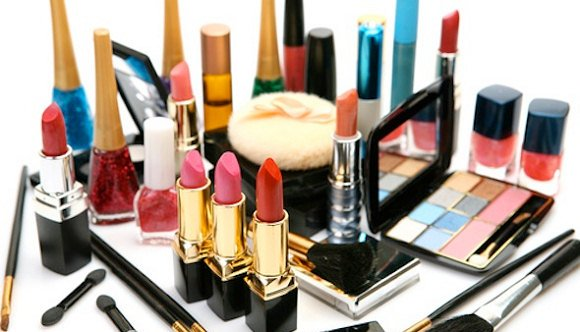Nonrec_Other: (21, 1, 579, 324)
